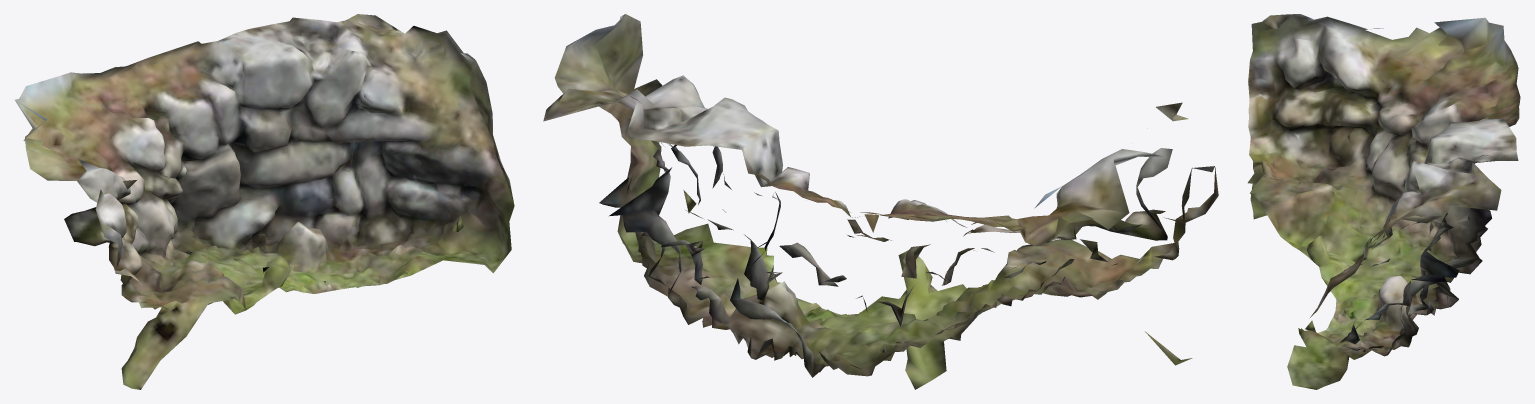
The model's file is wall-bosigran.glb.
3 renders of one model, left to right at view 1: azimuth 30°, elevation 25°; view 2: azimuth 150°, elevation 25°; view 3: azimuth 270°, elevation 25°, orthographic. The views are drawn at different scales.
Visible parts, largest first — view 1: low; view 2: low; view 3: low.
Part boxes in pixels (<box>): low: <box>15,14,514,389</box>; low: <box>543,14,1218,389</box>; low: <box>1248,14,1520,389</box>.
Size of the model in its own units: 3.2 by 1.53 by 1.84.
Materials: 1 (1 with a texture image).
